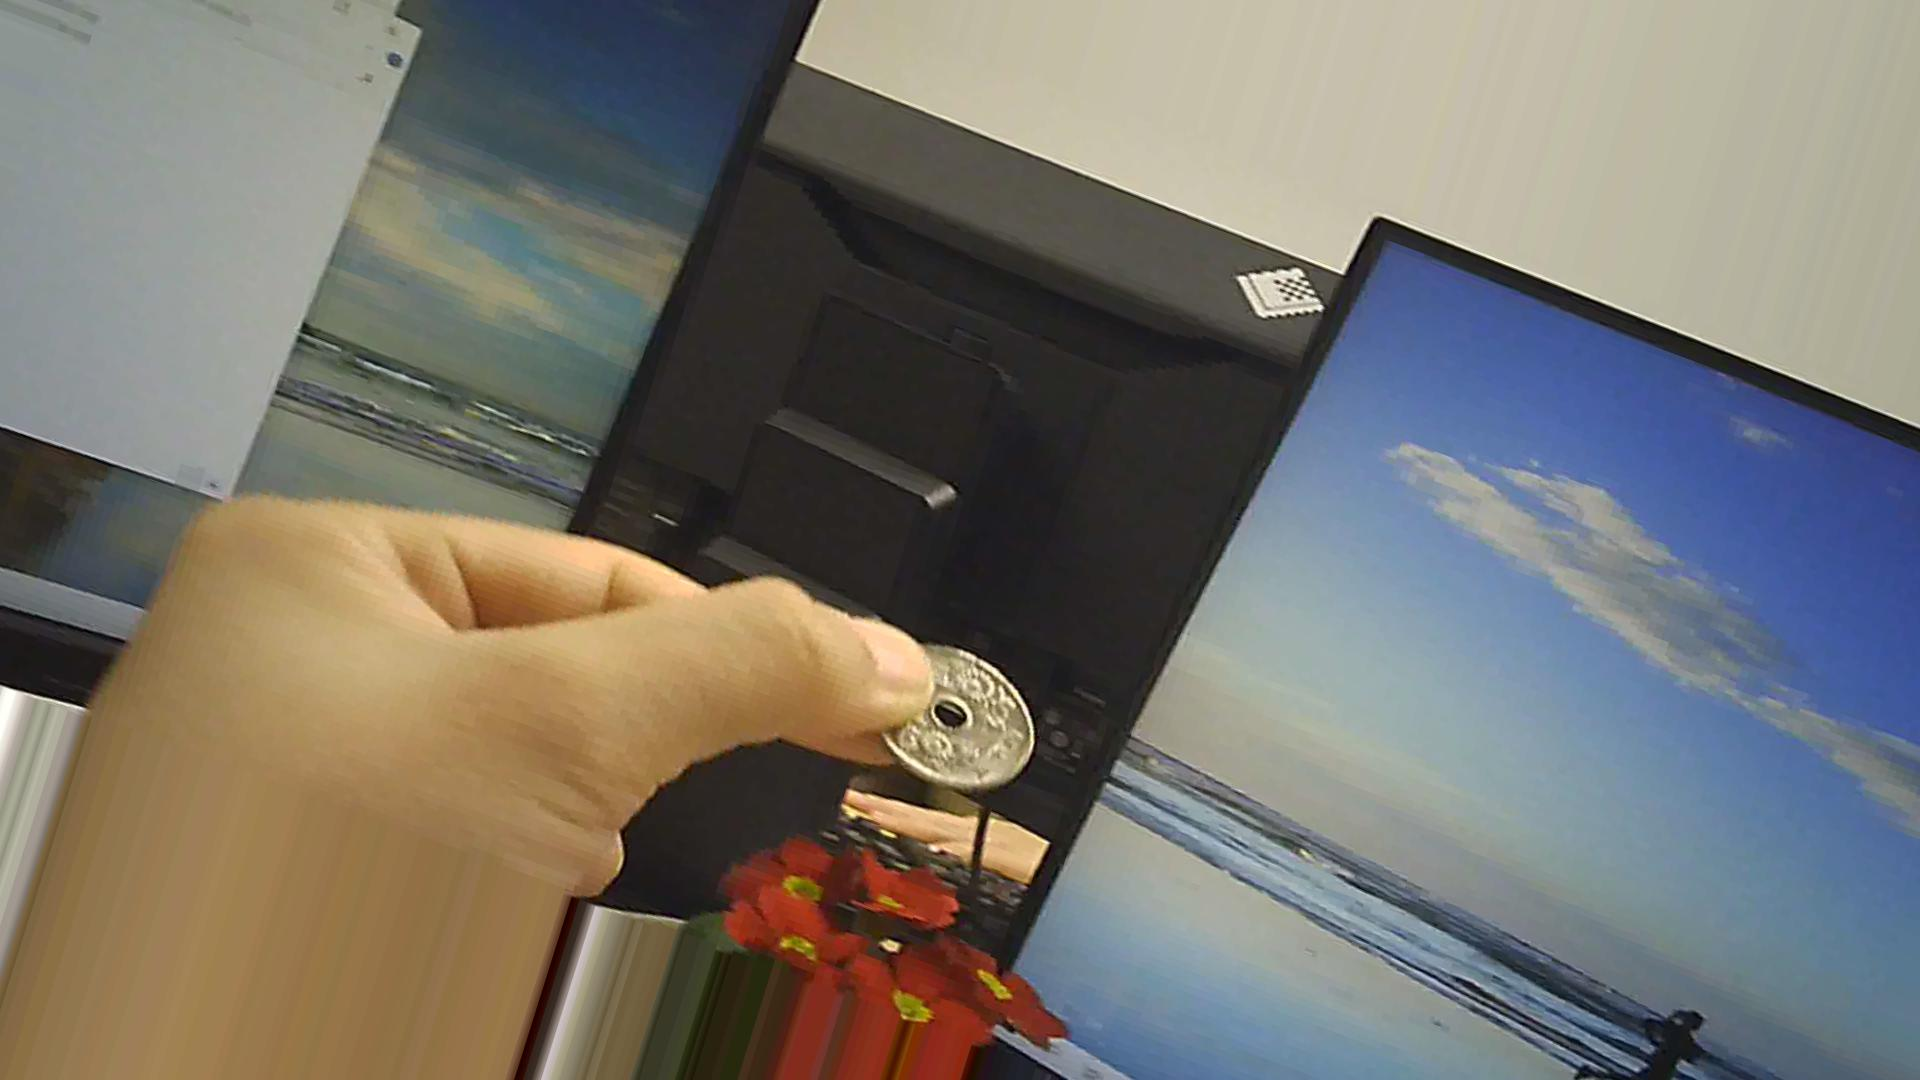50 Yen: (855, 616, 1038, 794)
